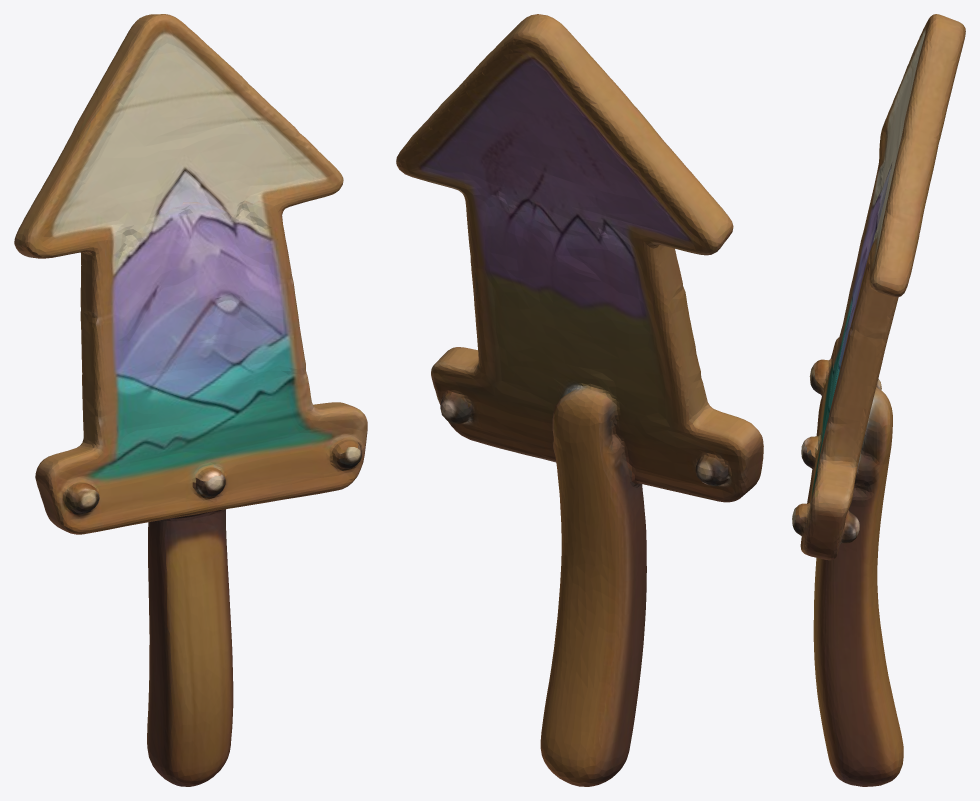
File: wooden_sign.glb
The picture shows the model from 3 angles, left to right: view 1: azimuth 30°, elevation 25°; view 2: azimuth 150°, elevation 25°; view 3: azimuth 270°, elevation 25°; orthographic projection. The views are drawn at different scales.
Parts seen in each view (by area): view 1: tmpj352uwex.ply; view 2: tmpj352uwex.ply; view 3: tmpj352uwex.ply.
Part boxes in pixels (x1,y1,x2,y2): tmpj352uwex.ply: (14, 14, 367, 786); tmpj352uwex.ply: (396, 14, 763, 786); tmpj352uwex.ply: (792, 14, 965, 786).
Bounding box in the file's own units: 0.8859 × 1.99 × 0.4073.
1 material, 1 textured.
